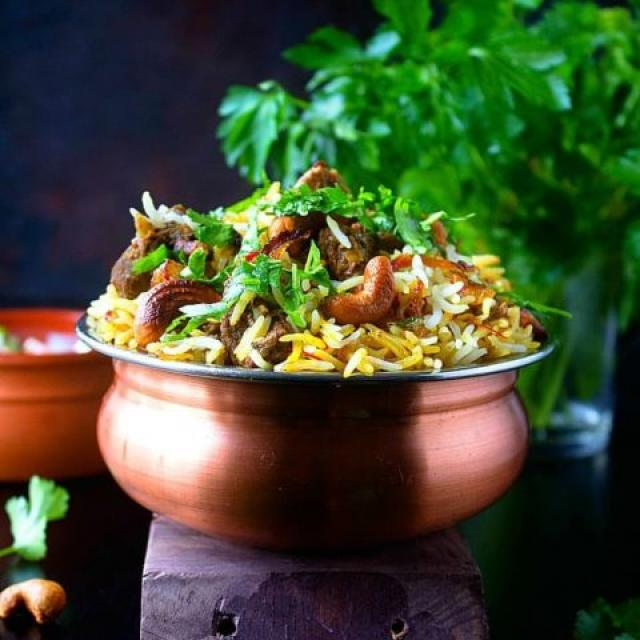Rice: (85, 160, 548, 377)
